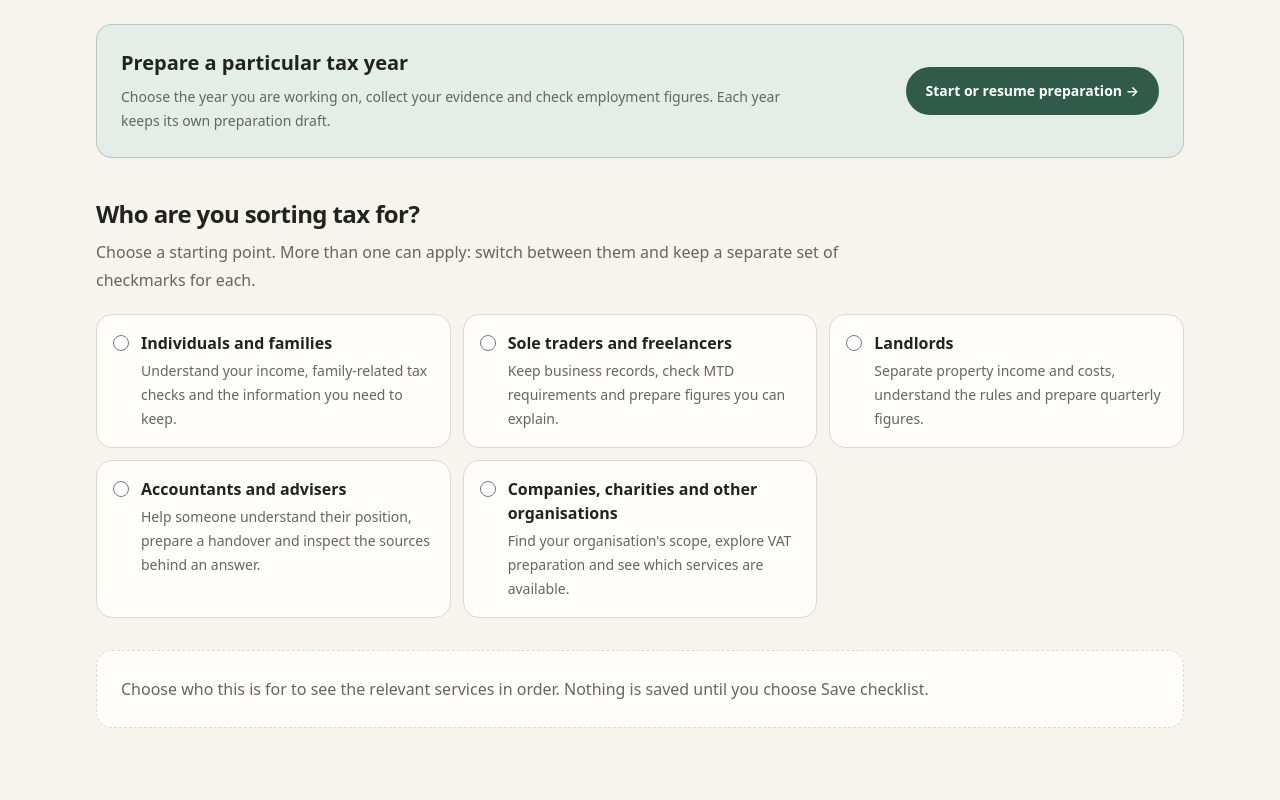
Test: My tax year and personal checklist › keeps the adviser and organisation routes as personal checklists without reading personal records
(page scrolled)
Click the radio button labelled "Accountants and advisers" at (121, 489), box [113,481,129,497]
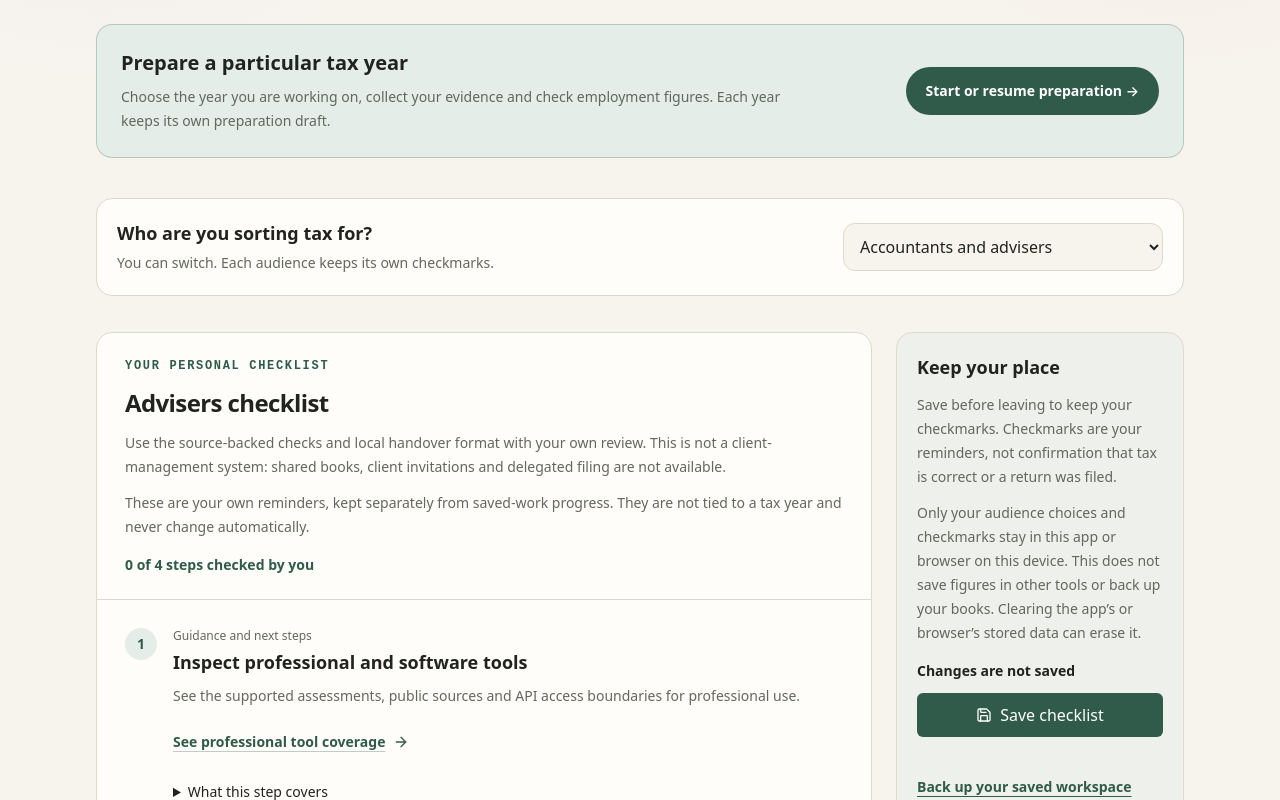
Check: the heading "Advisers checklist" is shown, box [125,386,329,419]
Check: the dropdown labelled "Who are you sorting tax for?" is enabled
Select "Companies, charities and other organisations" in the dropdown labelled "Who are you sorting tax for?" at (1003, 247), box [843,223,1163,271]
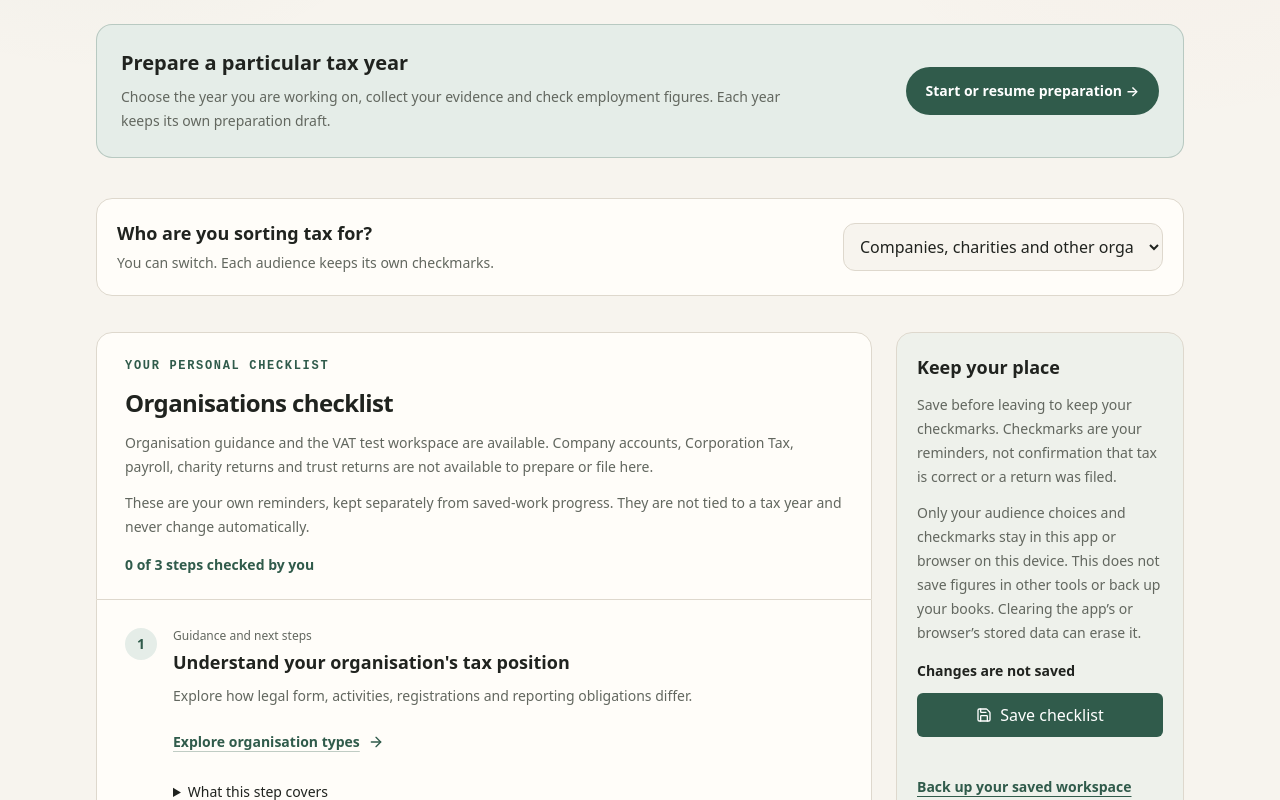
Check: the heading "Organisations checklist" is shown, box [125,386,393,419]
